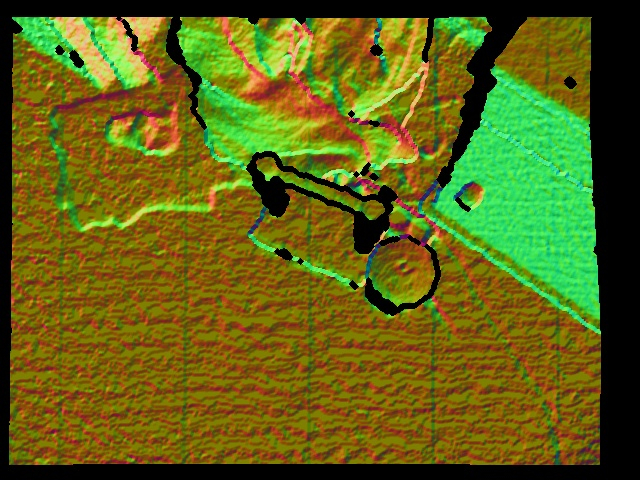station: (249, 154, 386, 287)
